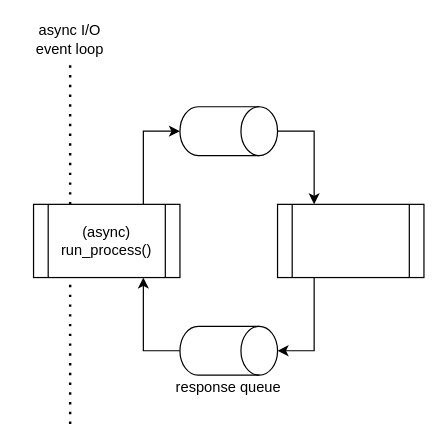
Image size: 445x447. Some labels were removed from this diagram. Here are the shapes that lost their labels. From the top down, the centre of each, then its label:
At pixel 228 131: "request queue".
At pixel 350 240: "blocking process function".
